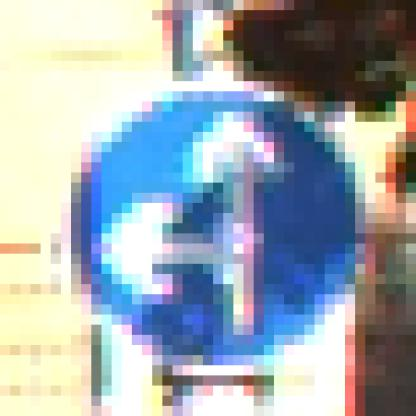Straight or Left: (62, 62, 366, 366)
